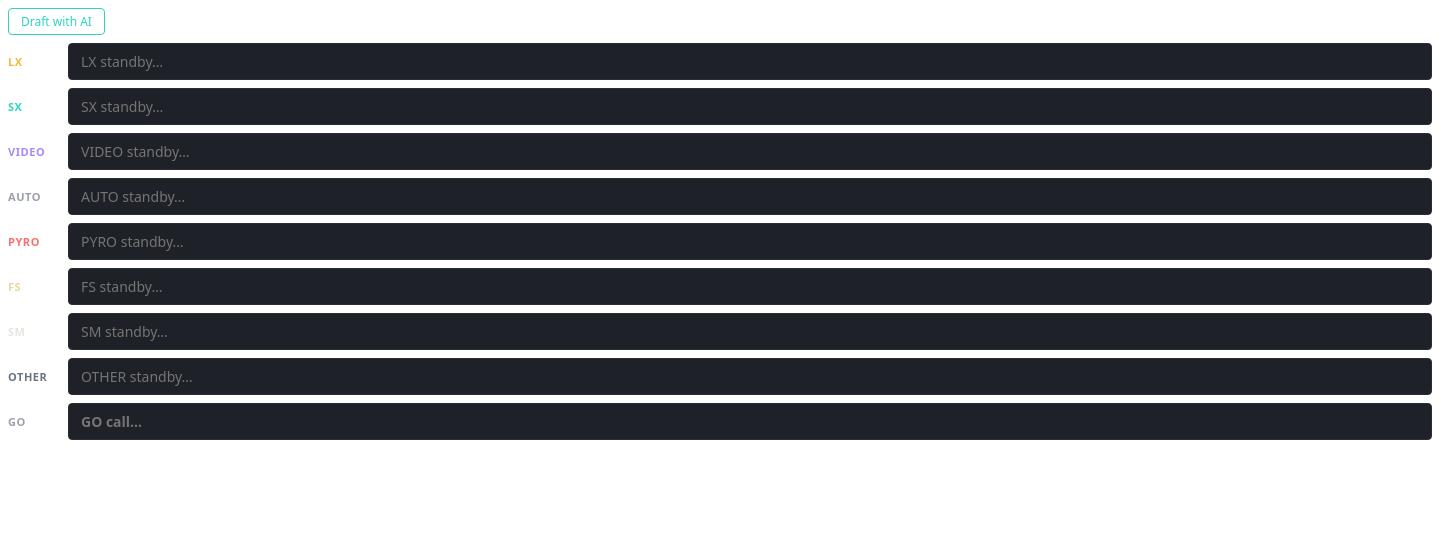
Test: CallerLinesEditor — Draft with AI › shows fallback label and error message when source is deterministic with error
Click the button with test id "caller-ai-draft-btn" at (56, 22), box [8,8,105,35]
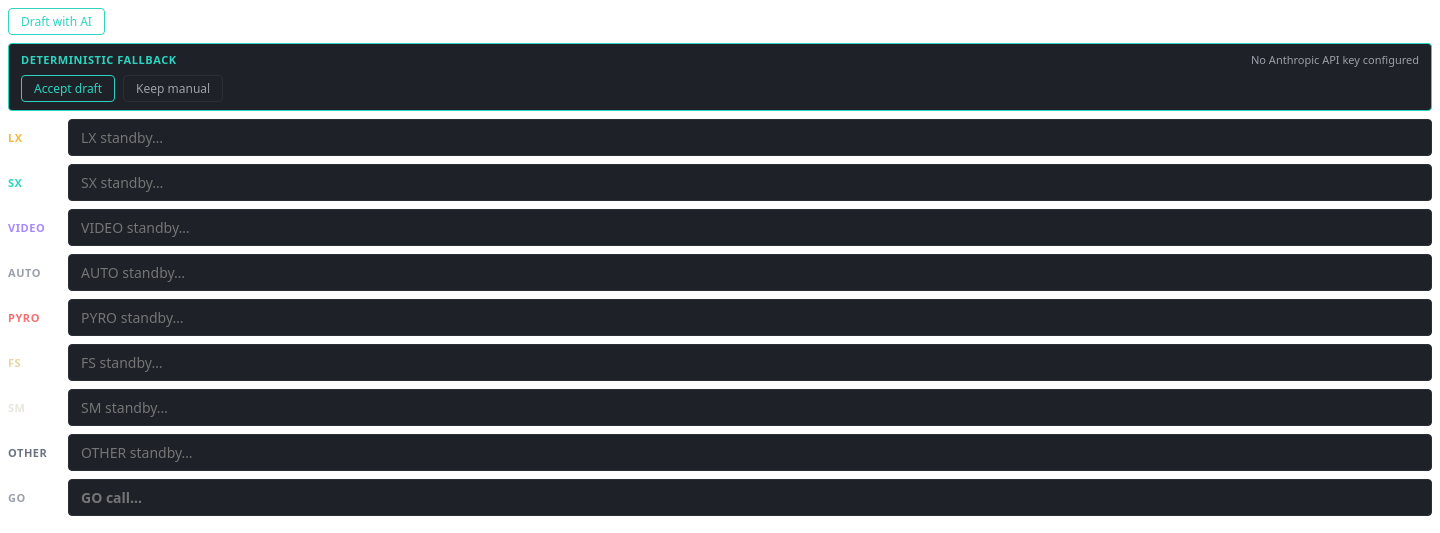
Result: the element with test id "caller-ai-draft-panel" is shown at [8,43,1432,111]
Result: the text with test id "caller-ai-draft-label" shows "fallback" at [21,52,177,67]
Result: the text with test id "caller-ai-draft-error" shows "No Anthropic API key" at [1251,52,1419,67]
